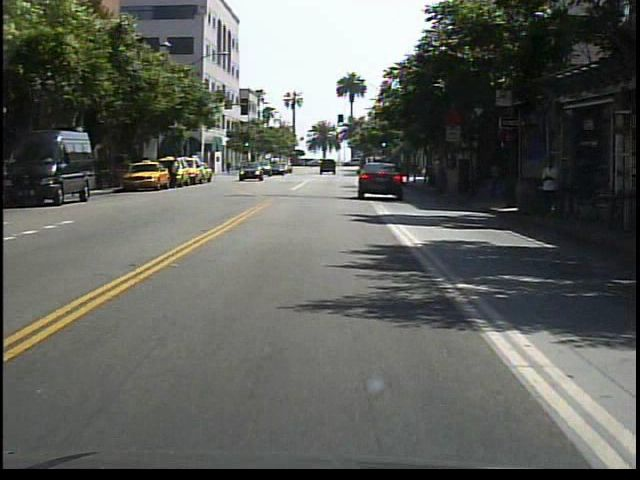person: (536, 150, 569, 225), (168, 155, 184, 191)
